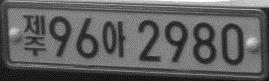0: (219, 21, 245, 66)
2: (135, 18, 162, 62)
6: (74, 16, 100, 59)
8: (191, 20, 217, 64)
9: (47, 14, 72, 58), (163, 19, 188, 63)
아: (101, 19, 126, 58)
제주_V: (21, 13, 48, 59)
